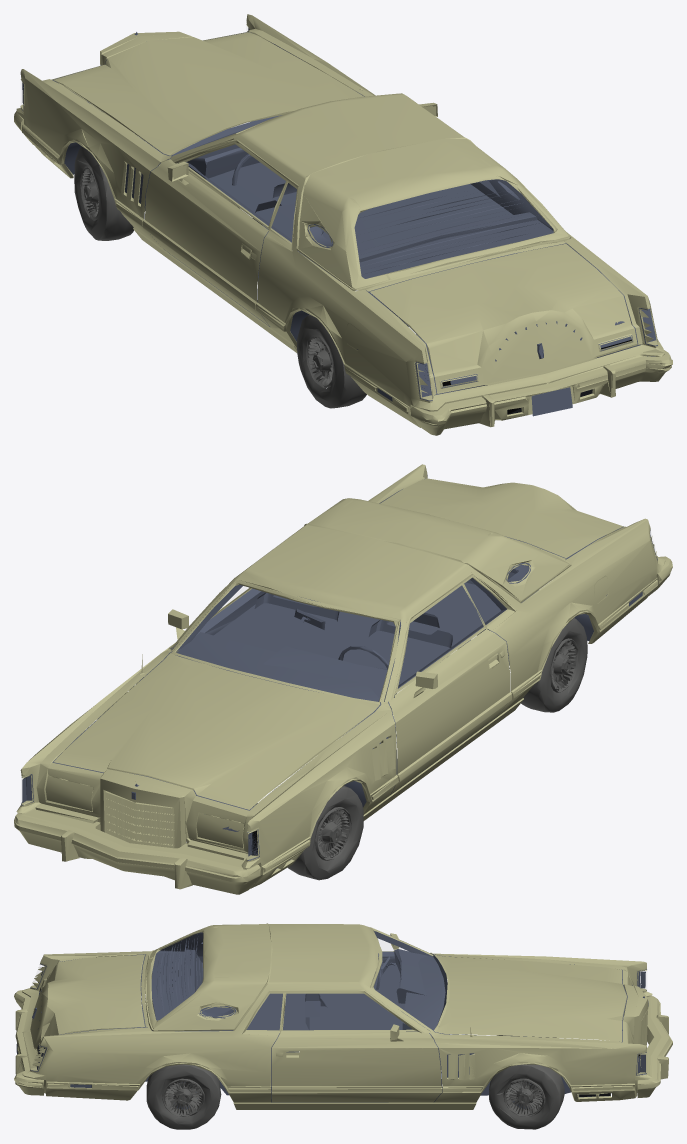
The picture shows the model from 3 angles, top to bottom: view 1: azimuth 30°, elevation 25°; view 2: azimuth 150°, elevation 25°; view 3: azimuth 270°, elevation 25°; orthographic projection. The views are drawn at different scales.
Parts seen in each view (by area): view 1: static_continental • Paint, static_continental • Body, static_continental • Badges, static_continental • Wheel; view 2: static_continental • Paint, static_continental • Body, static_continental • Badges, static_continental • Wheel; view 3: static_continental • Paint, static_continental • Body, static_continental • Badges, static_continental • Wheel.
Part boxes in pixels (box(x1,y1,x2,y2)): static_continental • Paint: box(16, 14, 664, 427); static_continental • Body: box(14, 24, 672, 435); static_continental • Badges: box(21, 27, 657, 416); static_continental • Wheel: box(74, 146, 366, 408); static_continental • Paint: box(16, 464, 665, 888); static_continental • Body: box(14, 477, 672, 894); static_continental • Badges: box(21, 475, 657, 868); static_continental • Wheel: box(287, 617, 587, 880); static_continental • Paint: box(22, 924, 661, 1102); static_continental • Body: box(14, 923, 672, 1109); static_continental • Badges: box(16, 931, 648, 1109); static_continental • Wheel: box(146, 1001, 564, 1129).
Size of the model in its own units: 2.06 by 1.35 by 5.85.
7 materials, 6 textured.
